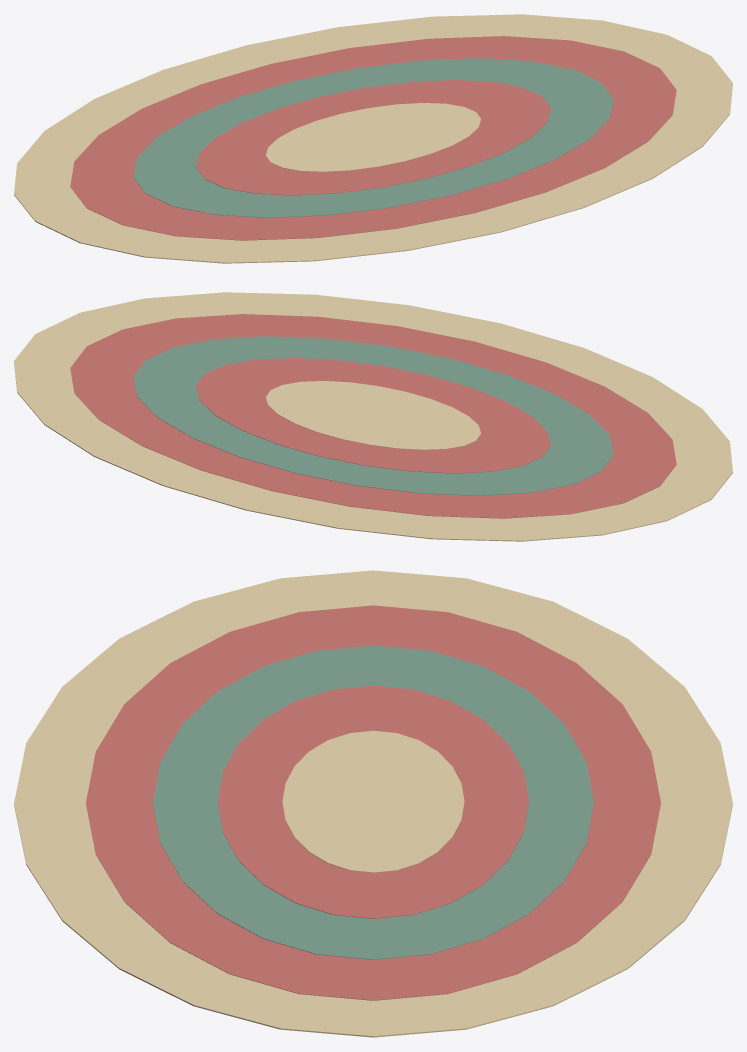
Rendered from prop_rug.glb.
The picture shows the model from 3 angles, top to bottom: view 1: azimuth 30°, elevation 25°; view 2: azimuth 150°, elevation 25°; view 3: azimuth 270°, elevation 25°; orthographic projection. The views are drawn at different scales.
Parts seen in each view (by area): view 1: Ring.1, Ring.0, Ring.2; view 2: Ring.1, Ring.0, Ring.2; view 3: Ring.1, Ring.0, Ring.2.
Part boxes in pixels (bbox=[...]): Ring.1: bbox=[70, 36, 676, 240]; Ring.0: bbox=[14, 14, 732, 263]; Ring.2: bbox=[133, 58, 613, 217]; Ring.1: bbox=[70, 314, 676, 518]; Ring.0: bbox=[14, 292, 732, 541]; Ring.2: bbox=[133, 336, 613, 495]; Ring.1: bbox=[86, 605, 660, 1000]; Ring.0: bbox=[14, 570, 732, 1037]; Ring.2: bbox=[153, 645, 593, 959].
Bounding box in the file's own units: 4.6 × 0.014 × 3.
